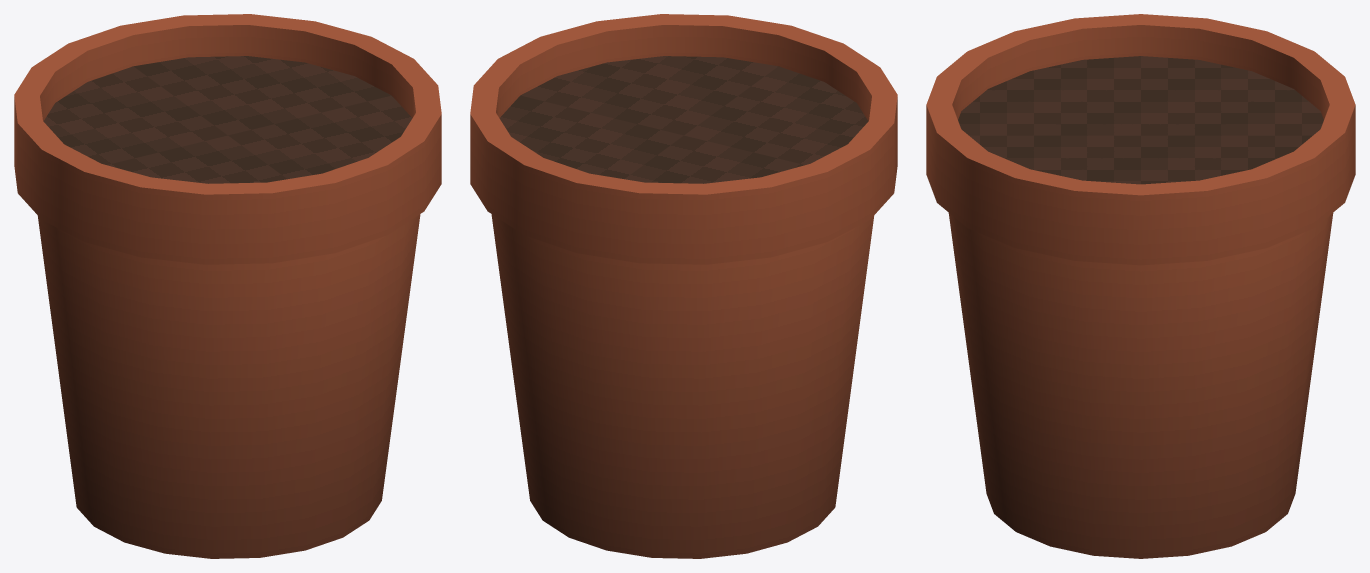
The model's file is kvetinac.glb.
3 renders of one model, left to right at view 1: azimuth 30°, elevation 25°; view 2: azimuth 150°, elevation 25°; view 3: azimuth 270°, elevation 25°, orthographic.
Parts seen in each view (by area): view 1: kvetinac; view 2: kvetinac; view 3: kvetinac.
Part boxes in pixels (left/top/right/bottom): kvetinac: left=14, top=14, right=441, bottom=558; kvetinac: left=470, top=14, right=897, bottom=558; kvetinac: left=926, top=14, right=1355, bottom=558.
Bounding box in the file's own units: 1 × 1 × 1.
1 material, 1 textured.
